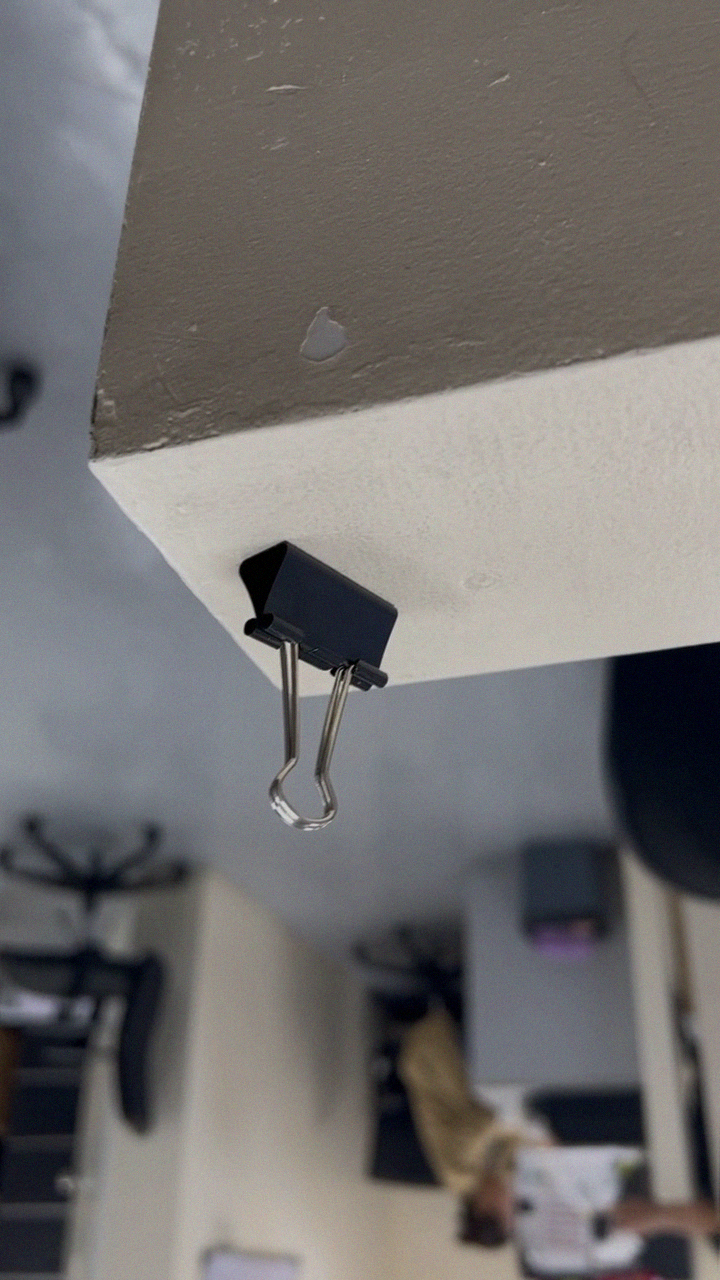kep_giay: (233, 536, 402, 834)
